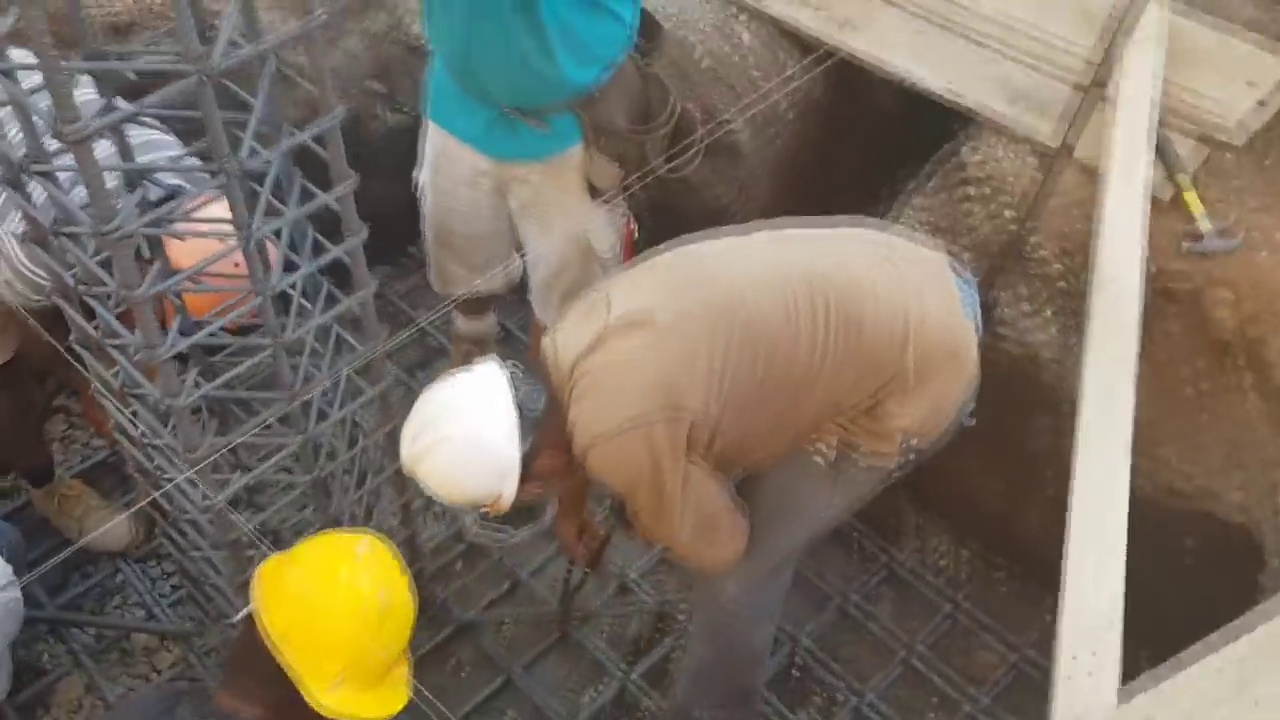helmet: (248, 530, 408, 714), (405, 352, 525, 526), (156, 198, 271, 335)
helmet-on: (201, 521, 420, 713), (397, 344, 597, 532), (112, 164, 279, 340)
person: (397, 216, 1031, 717), (0, 47, 280, 548), (413, 0, 661, 408), (87, 521, 422, 716)
